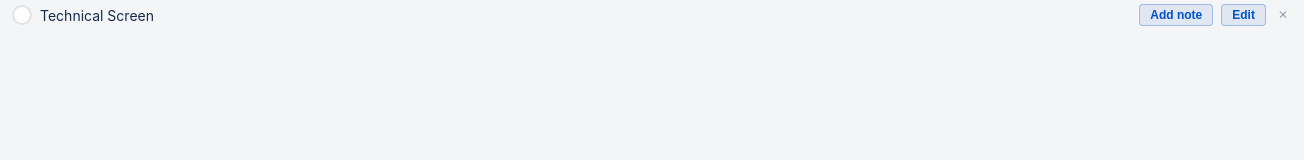
it: StageItem › editing a stage › switches to edit mode when the Edit button is clicked
Click the button "Edit" at (1244, 15), box x1=1221 y1=4 x2=1266 y2=26
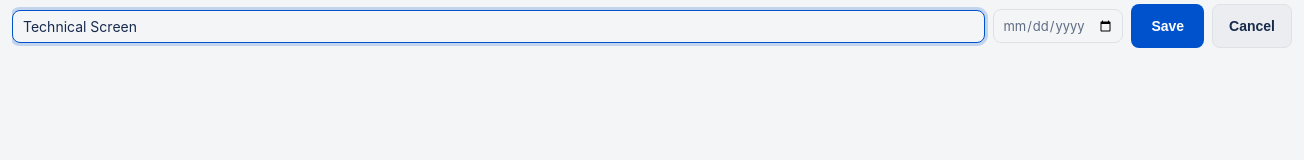
expect the field showing "Technical Screen" is shown: met, box x1=12 y1=10 x2=985 y2=42
expect the button "Save" is shown: met, box x1=1131 y1=4 x2=1204 y2=48
